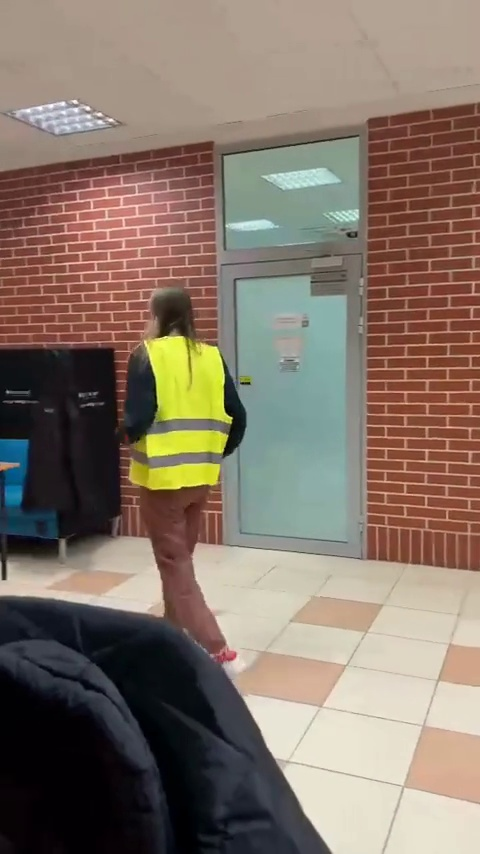vest: (111, 288, 248, 671)
